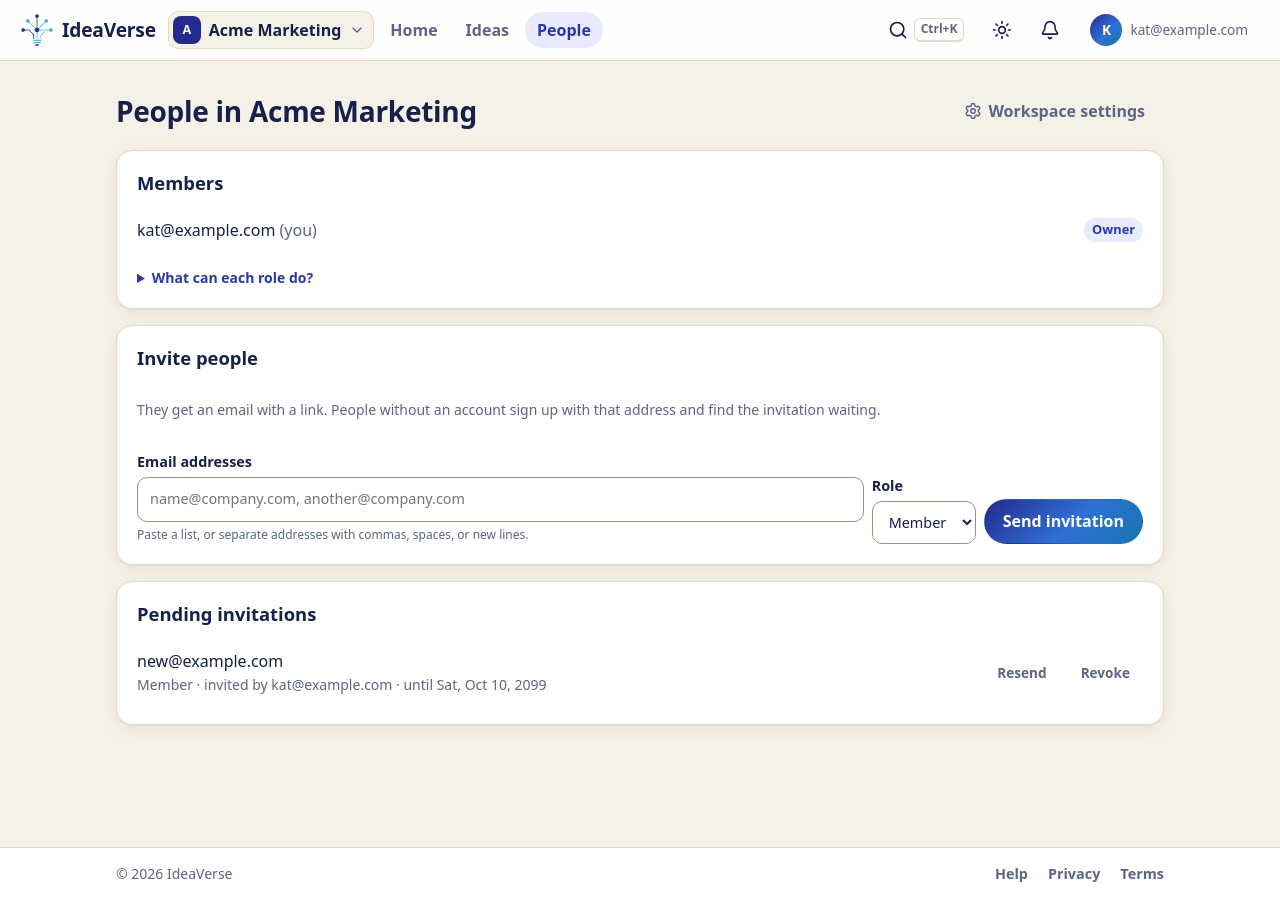
Test case: PeoplePage › reports which addresses the API refused, and keeps them
Click the field labelled "Email addresses".
click(500, 499)  # box 144,484 -> 857,515
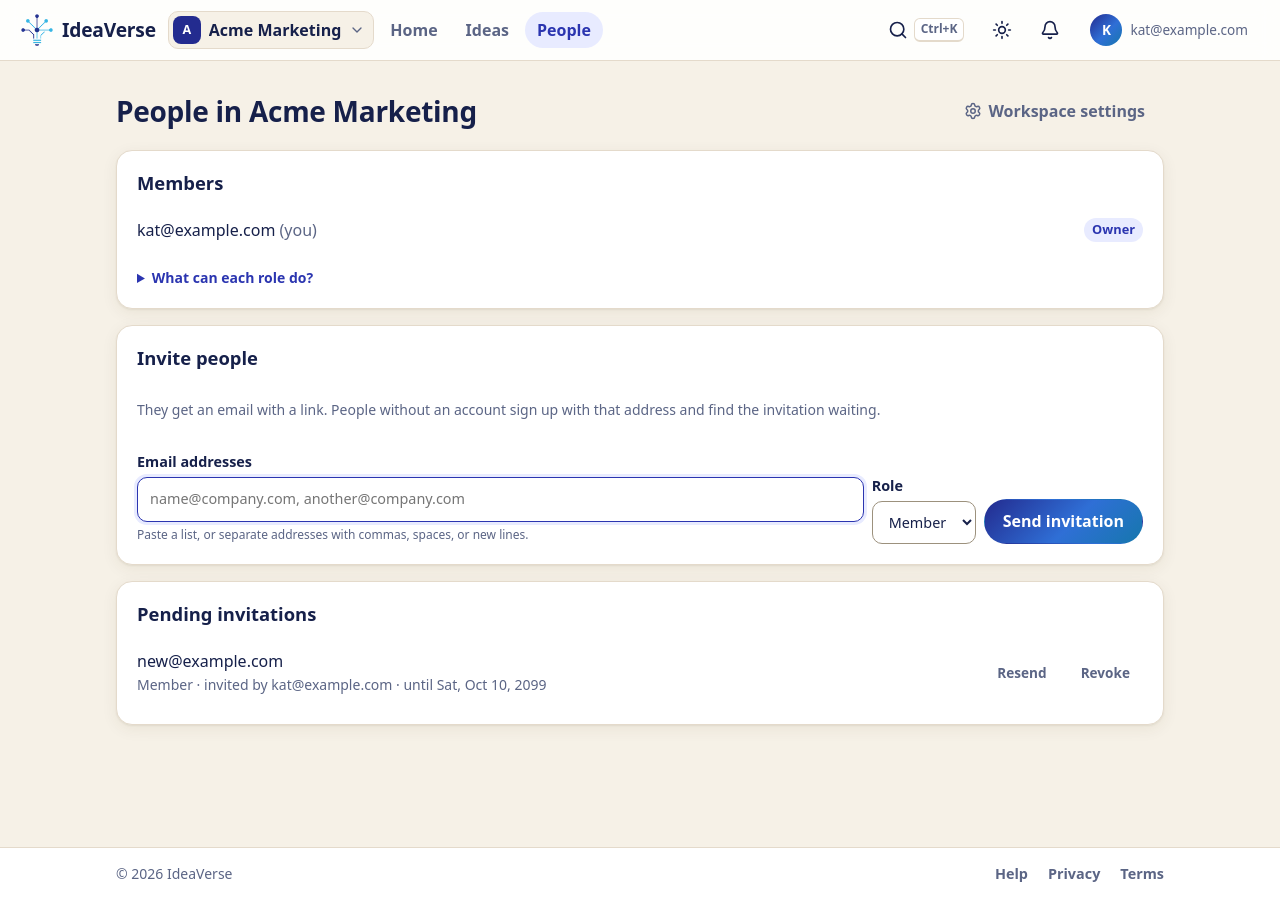
Type keys "old@example.com leo@example.com"
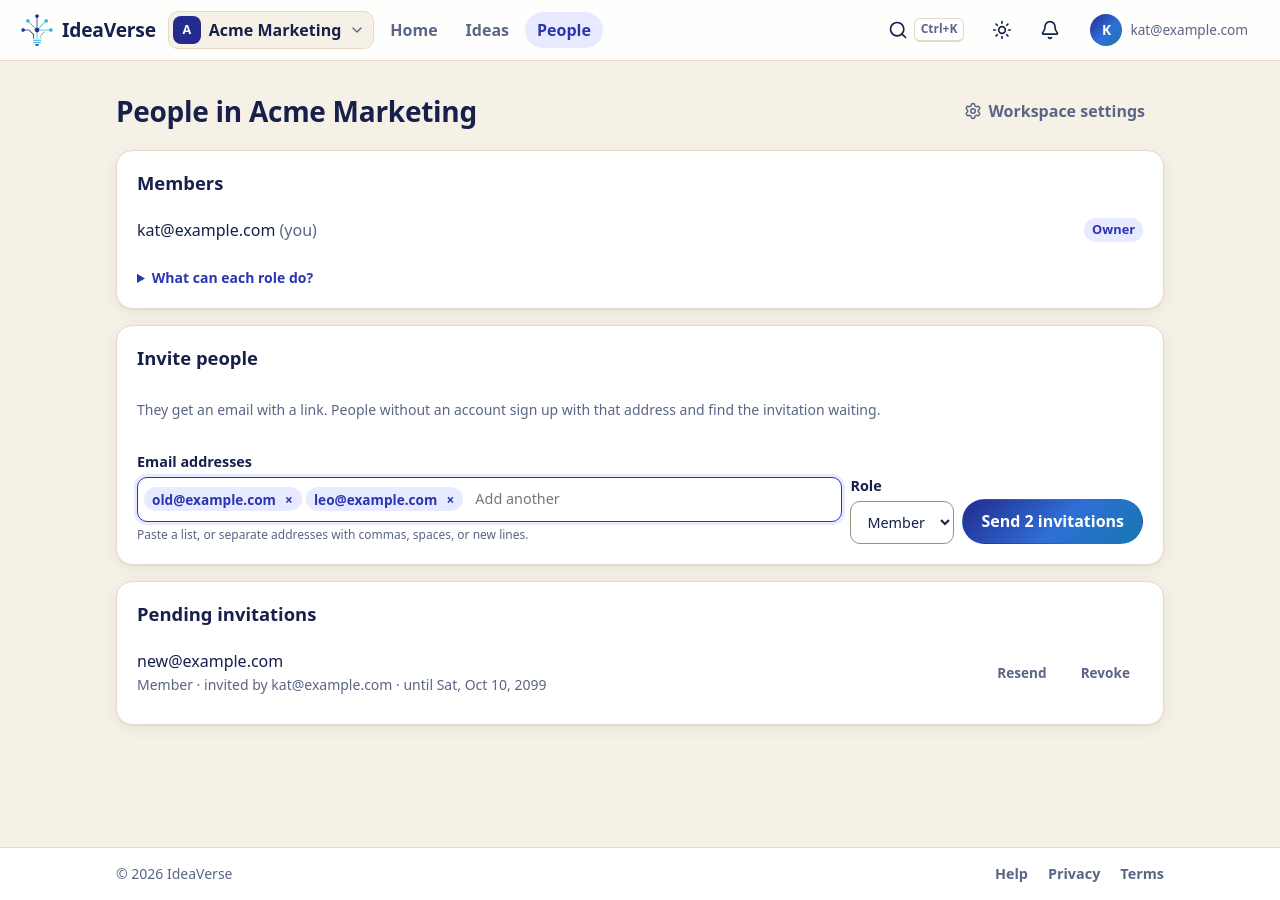
Click the button "Send 2 invitations".
click(1053, 522)  # box 962,499 -> 1143,544
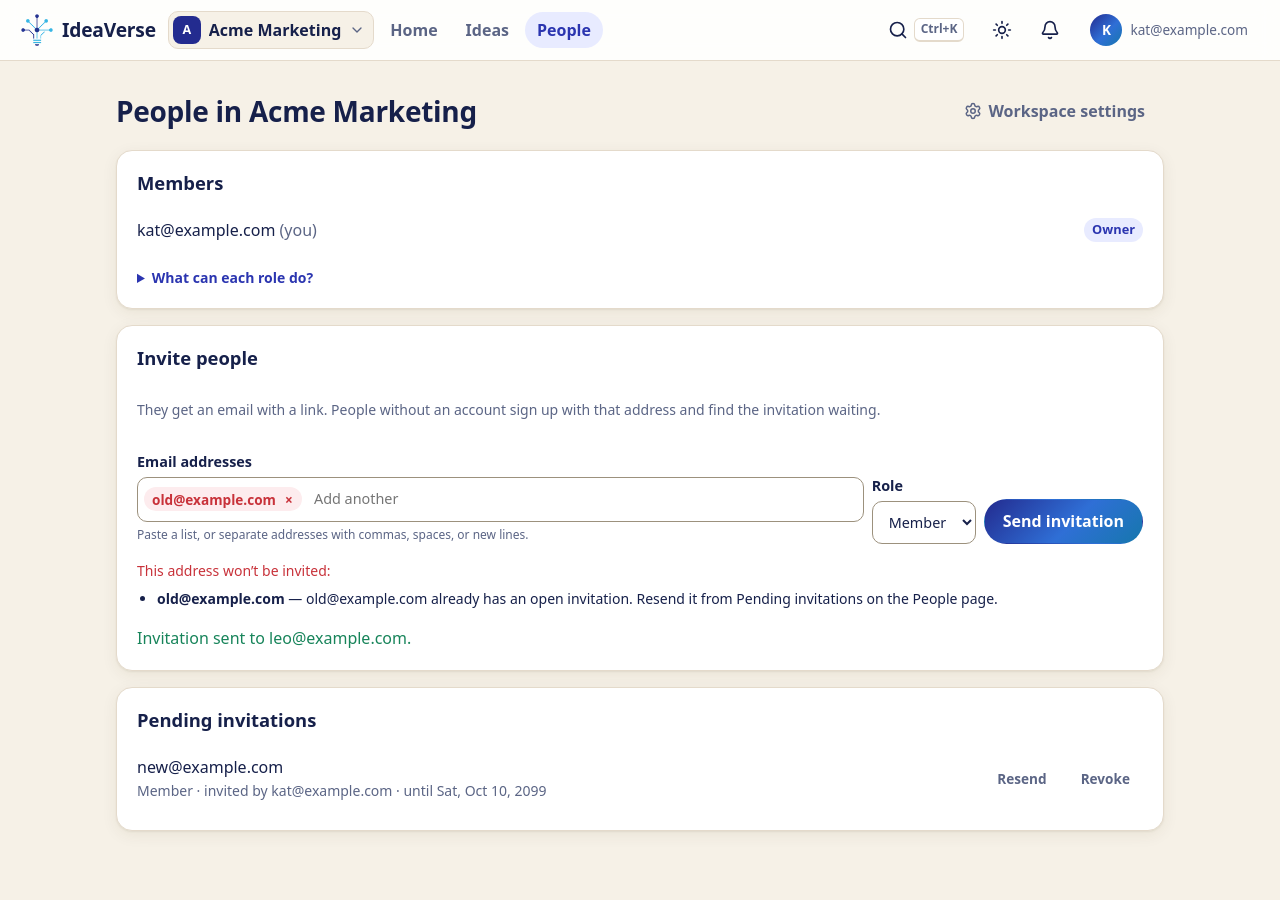
Now the list named "Addresses to invite" shows "old@example.com", box 152,490 -> 276,509
Now the message reads "Invitation sent to leo@example.com.", box 137,627 -> 411,649
Now the 3rd list item shows "old@example.com — old@example.com already has an open invitation", box 157,588 -> 1143,610
